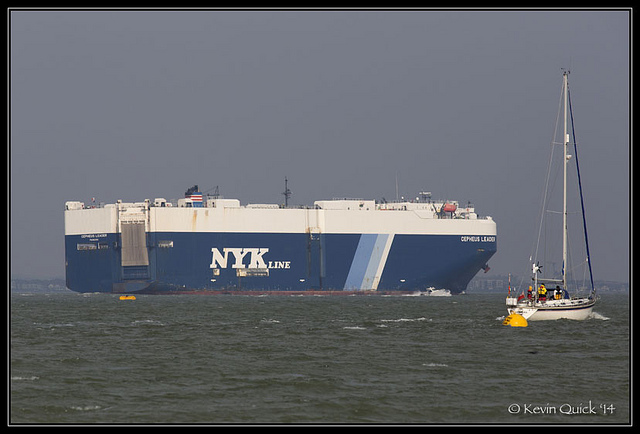PCC: (65, 178, 496, 295)
boat: (504, 71, 600, 319)
